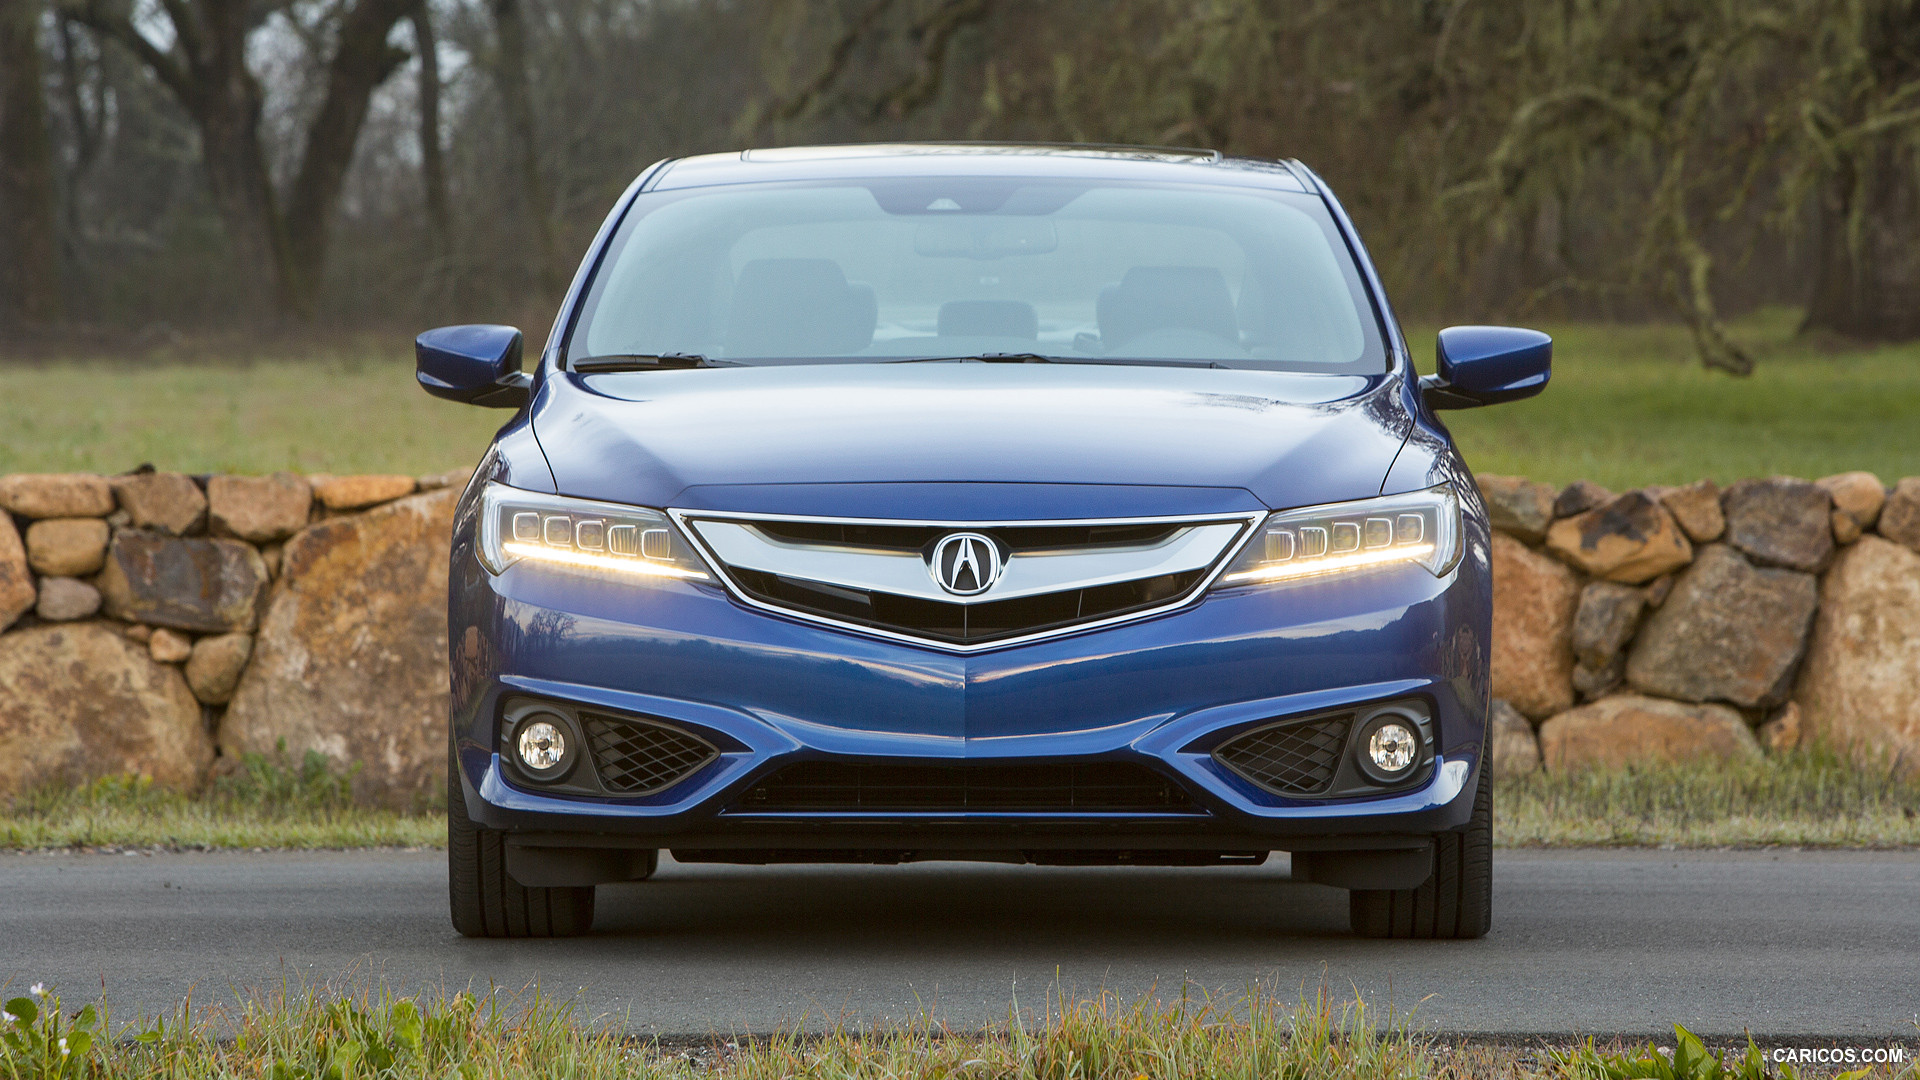Fog Lamp & Scope: (1200, 688, 1443, 808)
Front: (448, 411, 1497, 856)
Front Bumper: (443, 651, 1489, 843)
Grill: (700, 510, 1240, 655)
Headlight: (1204, 480, 1464, 600)
